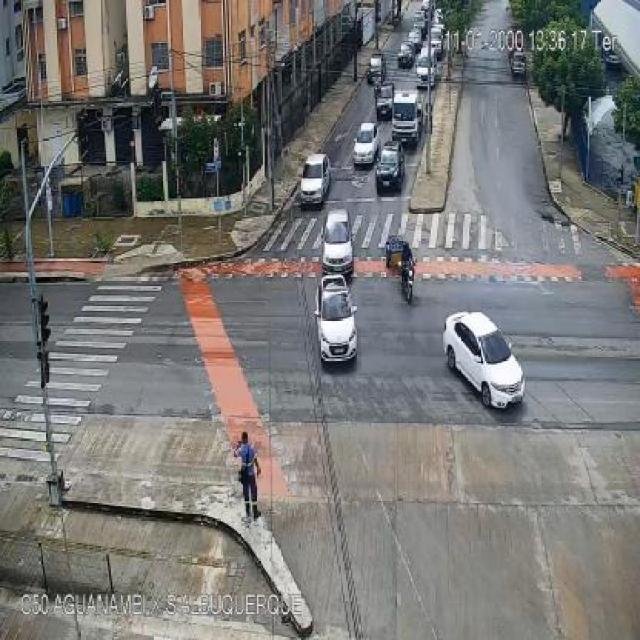Car: (444, 309, 525, 409), (315, 277, 359, 363), (320, 210, 353, 278), (299, 153, 332, 208), (375, 141, 406, 191), (352, 123, 380, 166), (415, 52, 439, 86), (374, 83, 395, 120), (367, 53, 388, 85), (394, 42, 417, 68), (508, 49, 528, 72)
Cycle: (394, 257, 417, 302)
Truck: (390, 91, 424, 145)
